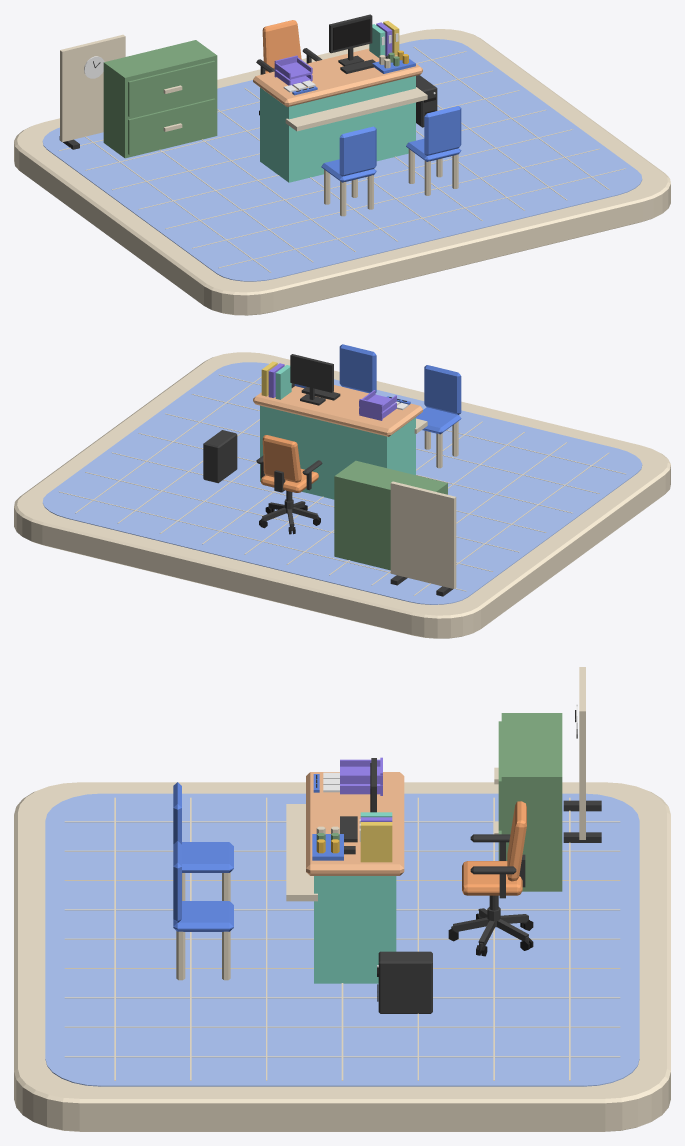
3 renders of one model, top to bottom at view 1: azimuth 30°, elevation 25°; view 2: azimuth 150°, elevation 25°; view 3: azimuth 270°, elevation 25°, orthographic. The views are drawn at different scales.
Visible parts, largest first — view 1: COM-02 Floor Surface, COM-01 Rounded Base Direct, Cabinet, Counter body, Panel, Countertop, Visitor shelf, COM-04_Chair_blender_direct, Backrest, Backrest.001, Frame, Tower (+5 smaller); view 2: COM-02 Floor Surface, COM-01 Rounded Base Direct, Counter body, Cabinet, Panel, Countertop, COM-04_Chair_blender_direct, Backrest, Backrest.001, Tower, Frame, Seat (+2 smaller); view 3: COM-02 Floor Surface, COM-01 Rounded Base Direct, Cabinet, Counter body, Countertop, COM-04_Chair_blender_direct, Tower, Visitor shelf, Seat.001, Seat, File.002, Panel (+7 smaller).
Part boxes in pixels (bbox=[...]): COM-02 Floor Surface: bbox=[42, 39, 642, 281]; COM-01 Rounded Base Direct: bbox=[14, 29, 670, 315]; Cabinet: bbox=[103, 40, 217, 158]; Counter body: bbox=[260, 76, 415, 182]; Panel: bbox=[60, 34, 125, 142]; Countertop: bbox=[253, 48, 422, 107]; Visitor shelf: bbox=[285, 87, 427, 131]; COM-04_Chair_blender_direct: bbox=[256, 20, 322, 115]; Backrest: bbox=[339, 126, 376, 176]; Backrest.001: bbox=[424, 106, 461, 155]; Frame: bbox=[329, 14, 372, 66]; Tower: bbox=[416, 75, 437, 127]; COM-02 Floor Surface: bbox=[42, 362, 642, 604]; COM-01 Rounded Base Direct: bbox=[14, 352, 670, 638]; Counter body: bbox=[260, 405, 415, 499]; Cabinet: bbox=[334, 460, 447, 570]; Panel: bbox=[390, 481, 456, 588]; Countertop: bbox=[253, 385, 422, 436]; COM-04_Chair_blender_direct: bbox=[256, 435, 322, 534]; Backrest: bbox=[424, 365, 461, 414]; Backrest.001: bbox=[339, 344, 376, 393]; Tower: bbox=[203, 430, 237, 483]; Frame: bbox=[290, 354, 333, 405]; Seat: bbox=[416, 407, 461, 434]; COM-02 Floor Surface: bbox=[45, 793, 639, 1086]; COM-01 Rounded Base Direct: bbox=[14, 782, 670, 1131]; Cabinet: bbox=[494, 713, 562, 891]; Counter body: bbox=[314, 876, 396, 983]; Countertop: bbox=[306, 772, 404, 875]; COM-04_Chair_blender_direct: bbox=[448, 801, 533, 956]; Tower: bbox=[378, 951, 432, 1013]; Visitor shelf: bbox=[286, 804, 317, 901]; Seat.001: bbox=[173, 901, 233, 931]; Seat: bbox=[182, 842, 233, 872]; File.002: bbox=[360, 822, 392, 862]; Panel: bbox=[579, 667, 585, 839].
Size of the model in its own units: 6 by 1.87 by 5.2.
1 material, 1 textured.
